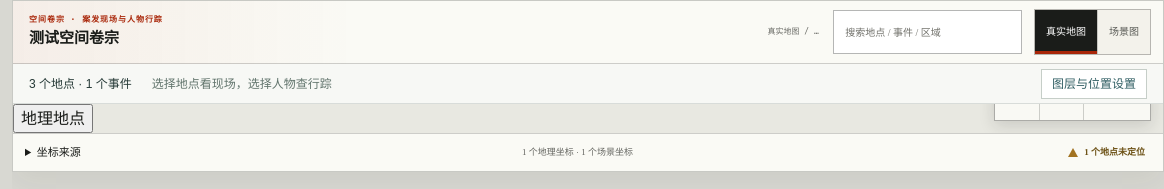
Scenario: spatial map view › passes a deployment scene image to the scene renderer only
Expected: the button with aria-label "地理地点 marker" is shown, [13,104,93,133]
Click the button "场景图".
click(1124, 32)  # box [1097,10,1150,54]
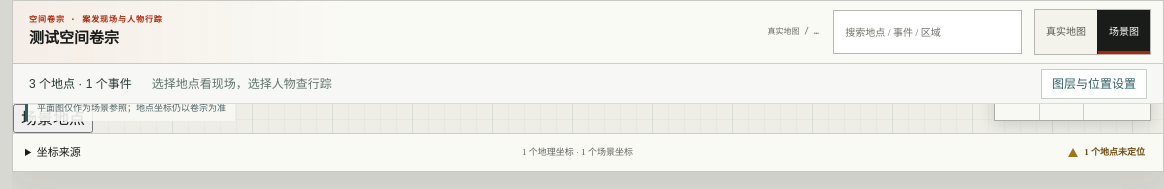
Result: the button with aria-label "场景地点 marker" is shown at [13,104,93,133]
